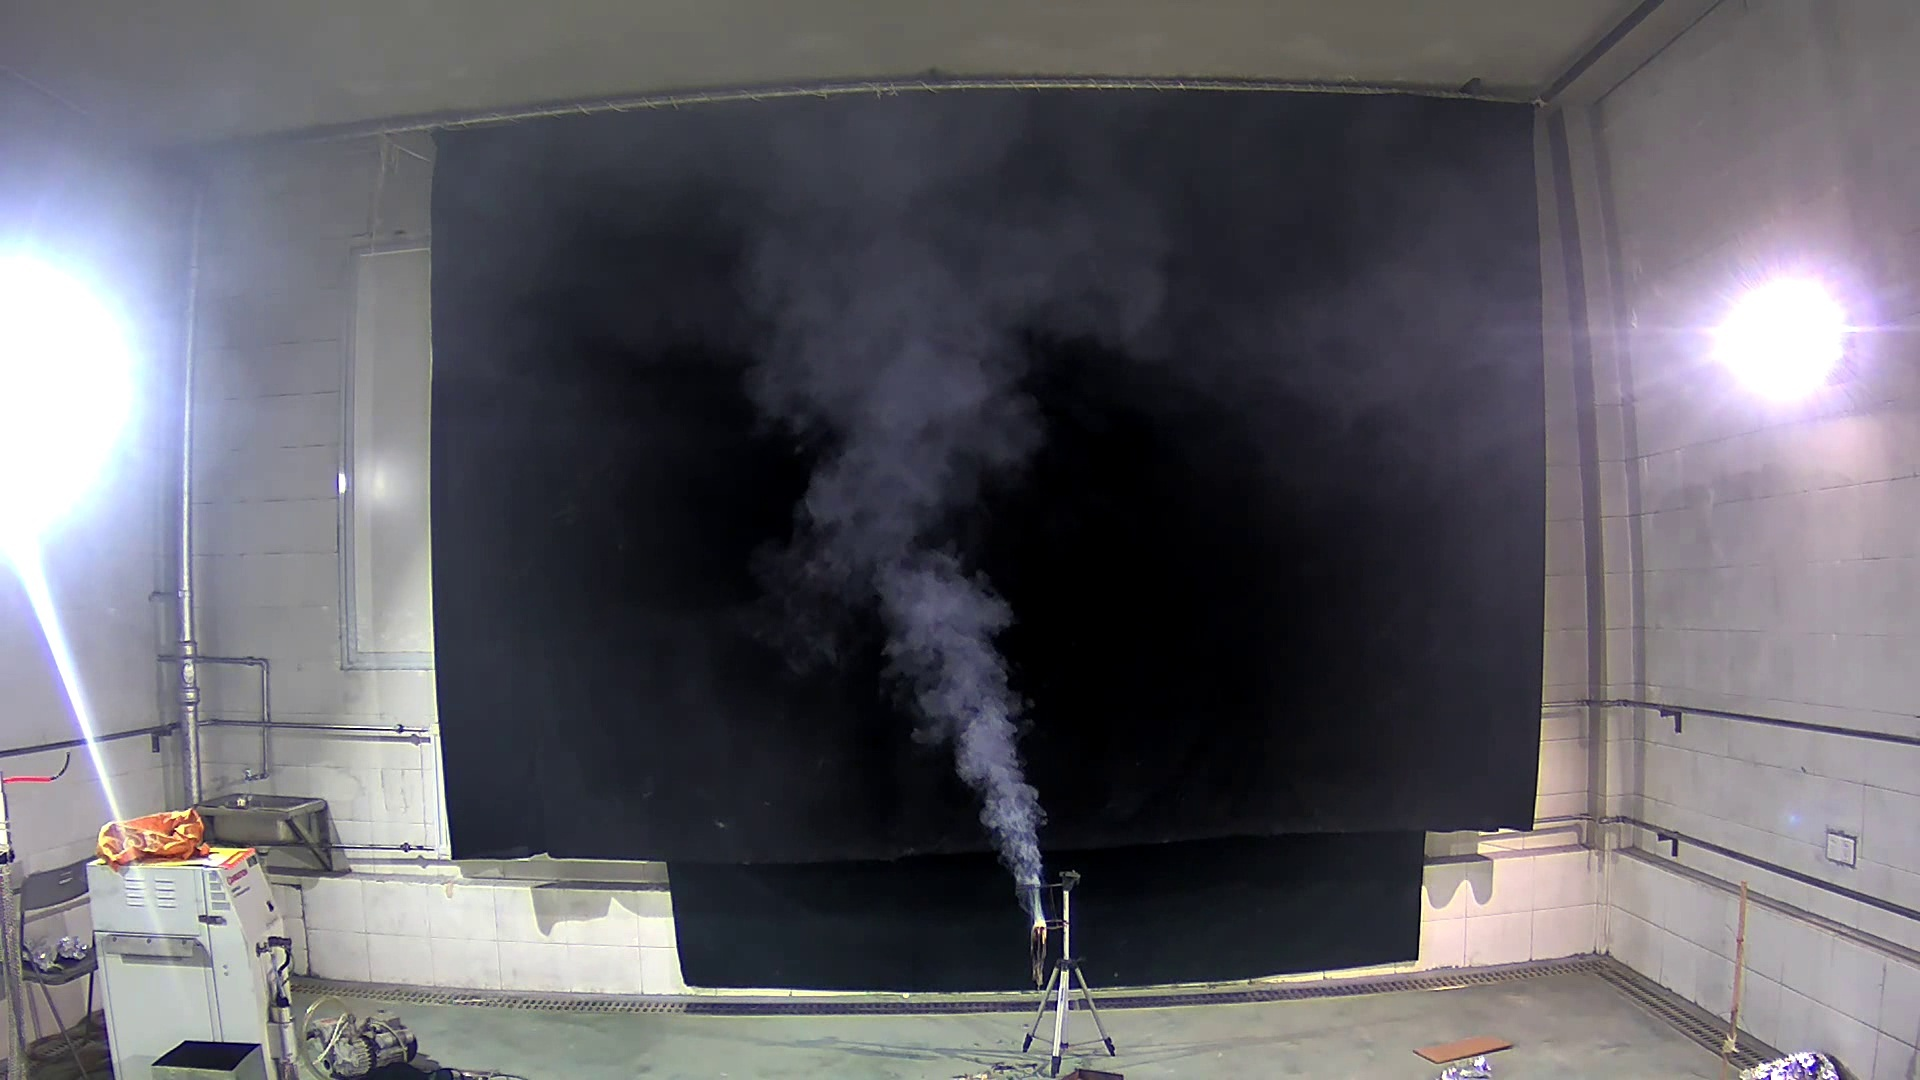smoke: (711, 107, 1146, 872)
